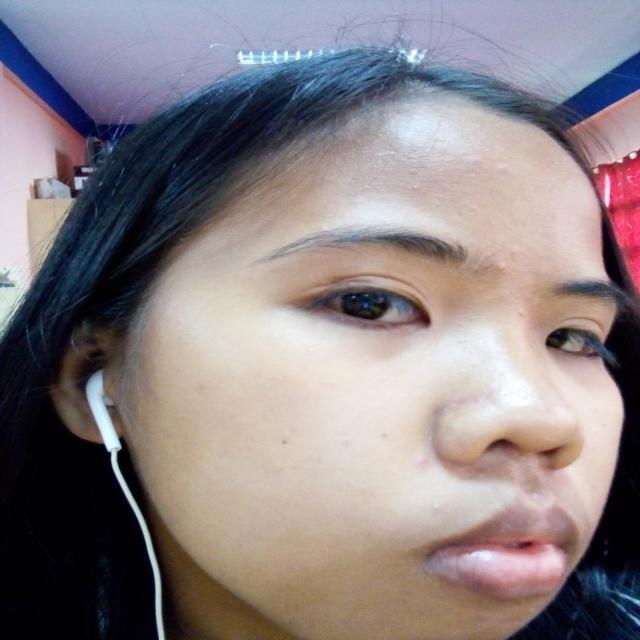Acne: (266, 422, 314, 462), (186, 371, 233, 404), (403, 433, 436, 473), (497, 242, 534, 274), (362, 416, 395, 448), (510, 296, 538, 330), (407, 180, 432, 200)
